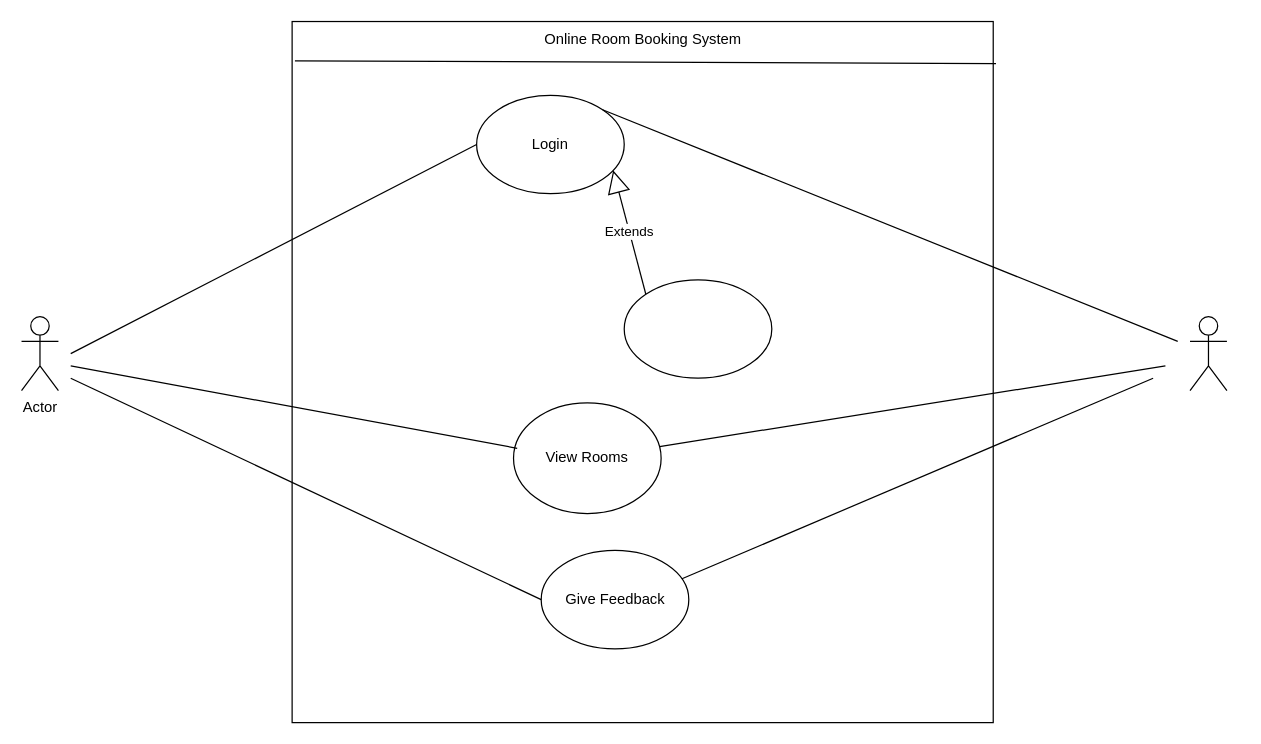
This 1261x744 diagram has some shape labels left out. The box of each missing label's shape, as (x1, y1, x2, y2) in pixels:
Database: (1189, 315, 1227, 391)
Sign up: (623, 279, 772, 378)
